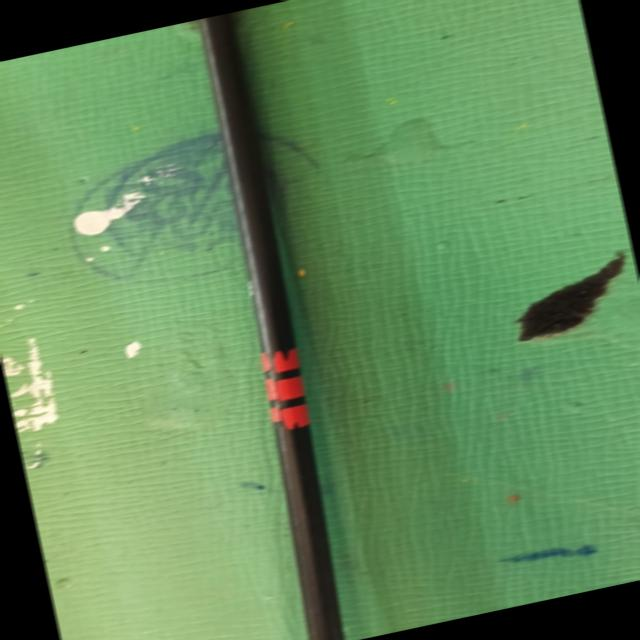red: (248, 343, 318, 434)
